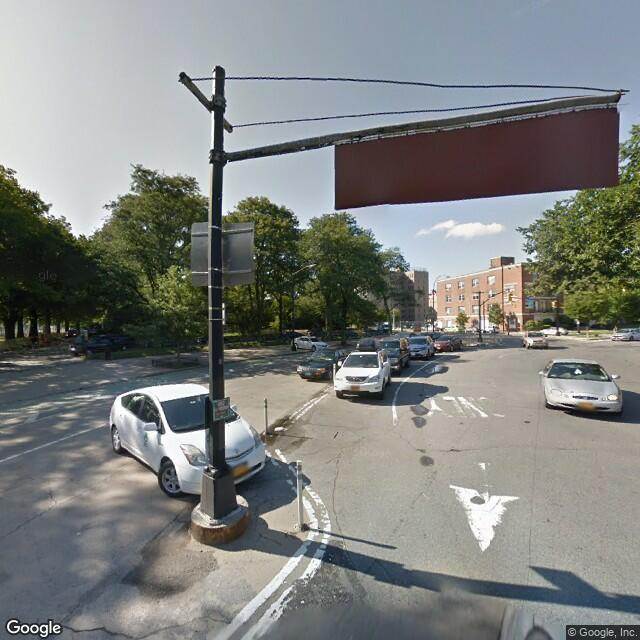litter: (273, 424, 287, 432), (298, 597, 304, 603)
